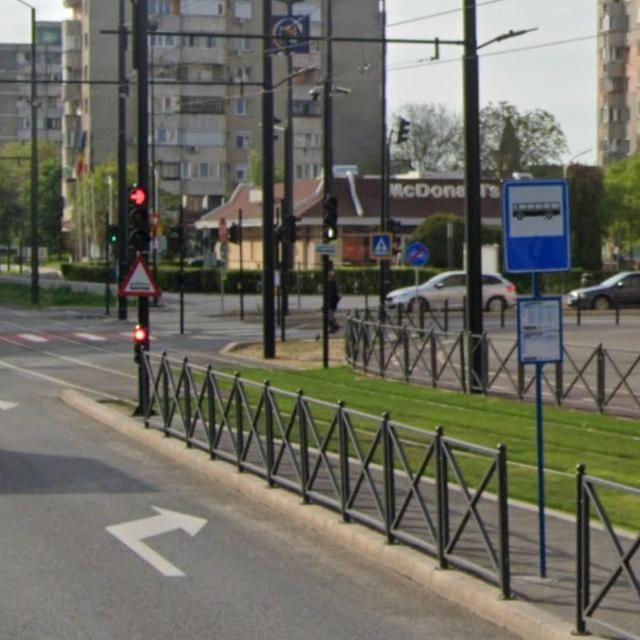info_crosswalk: (371, 233, 393, 258)
